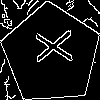X: (26, 29, 73, 65)
